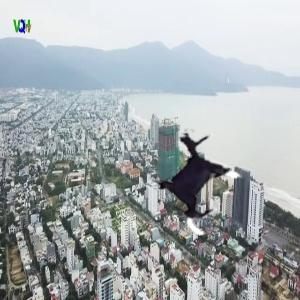drone: (143, 125, 259, 241)
